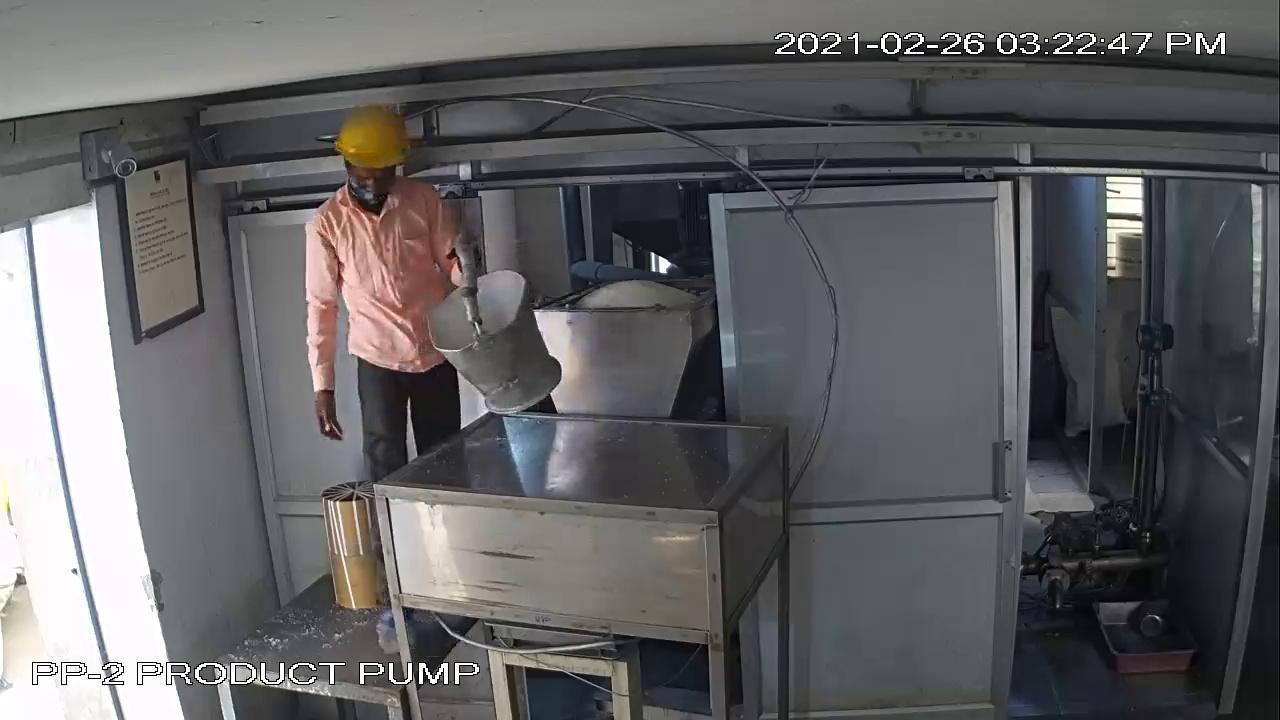helmet: (322, 93, 419, 182)
